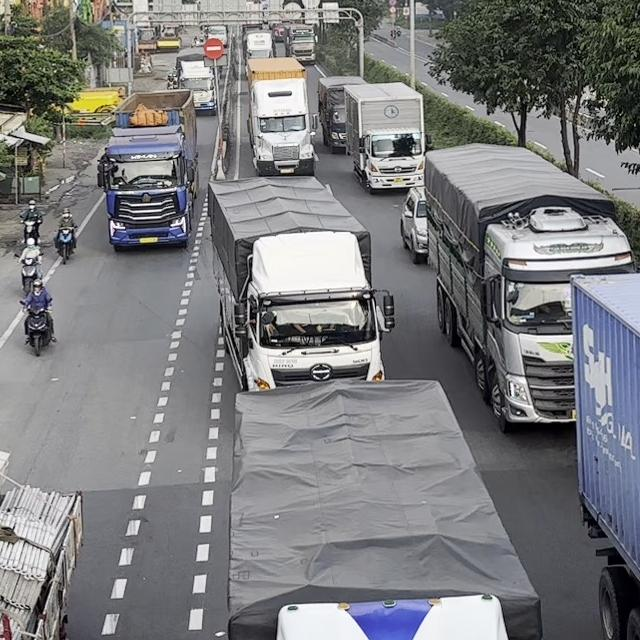car: (399, 185, 429, 264)
motorcycle: (18, 299, 55, 356), (14, 249, 43, 293), (54, 224, 77, 264), (19, 212, 42, 246), (166, 69, 179, 89)
truck: (226, 378, 543, 639), (423, 141, 636, 433), (206, 175, 395, 392), (568, 271, 639, 639), (0, 444, 85, 640), (96, 89, 198, 250), (343, 80, 428, 194), (245, 56, 319, 176), (317, 74, 368, 154), (174, 52, 216, 115), (243, 30, 274, 75), (286, 23, 316, 64), (206, 24, 228, 47)
